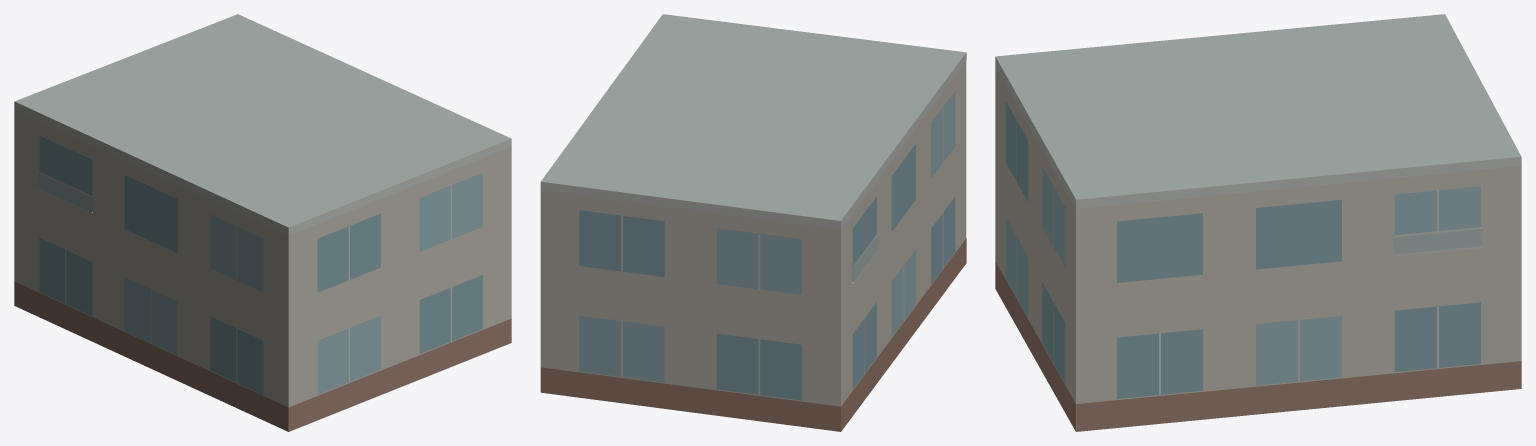
File: survey-upis-32682908.glb
The picture shows the model from 3 angles, left to right: view 1: azimuth 30°, elevation 25°; view 2: azimuth 150°, elevation 25°; view 3: azimuth 270°, elevation 25°; orthographic projection. The views are drawn at different scales.
Visible parts, largest first — view 1: survey-upis-32682908.tmp; view 2: survey-upis-32682908.tmp; view 3: survey-upis-32682908.tmp.
Part boxes in pixels (x1,y1,x2,y2): survey-upis-32682908.tmp: (14, 14, 511, 431); survey-upis-32682908.tmp: (540, 14, 966, 431); survey-upis-32682908.tmp: (995, 14, 1521, 431).
Bounding box in the file's own units: 10.48 × 6.1 × 12.54.
